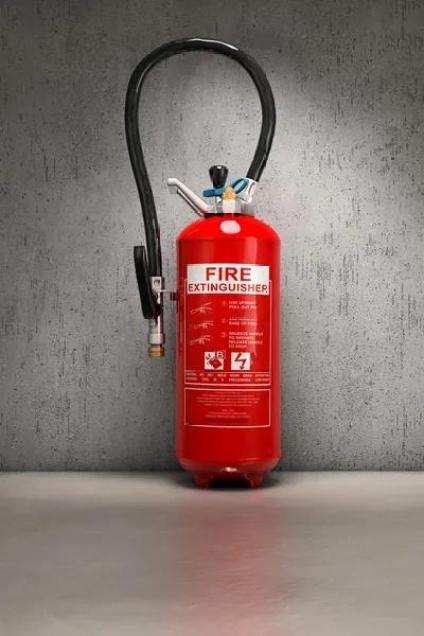APAR: (173, 174, 282, 488)
